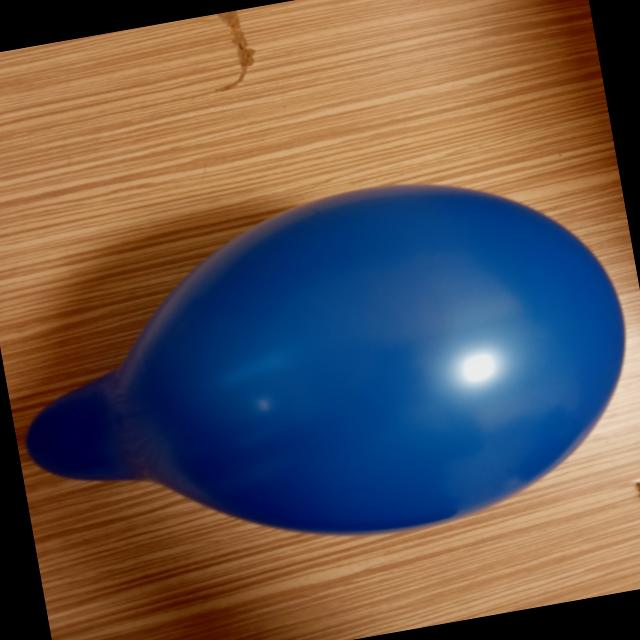balloon: (26, 185, 625, 533)
